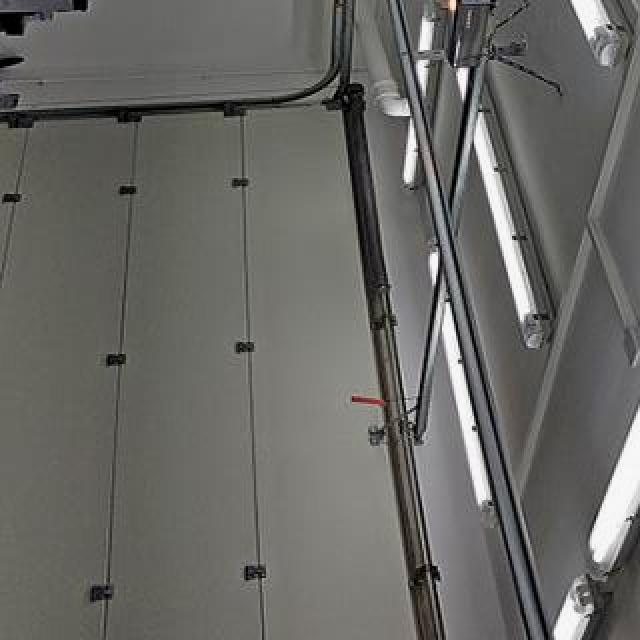fluorescent tube: (442, 11, 556, 362), (562, 200, 640, 598), (470, 0, 640, 72), (516, 570, 640, 640)
